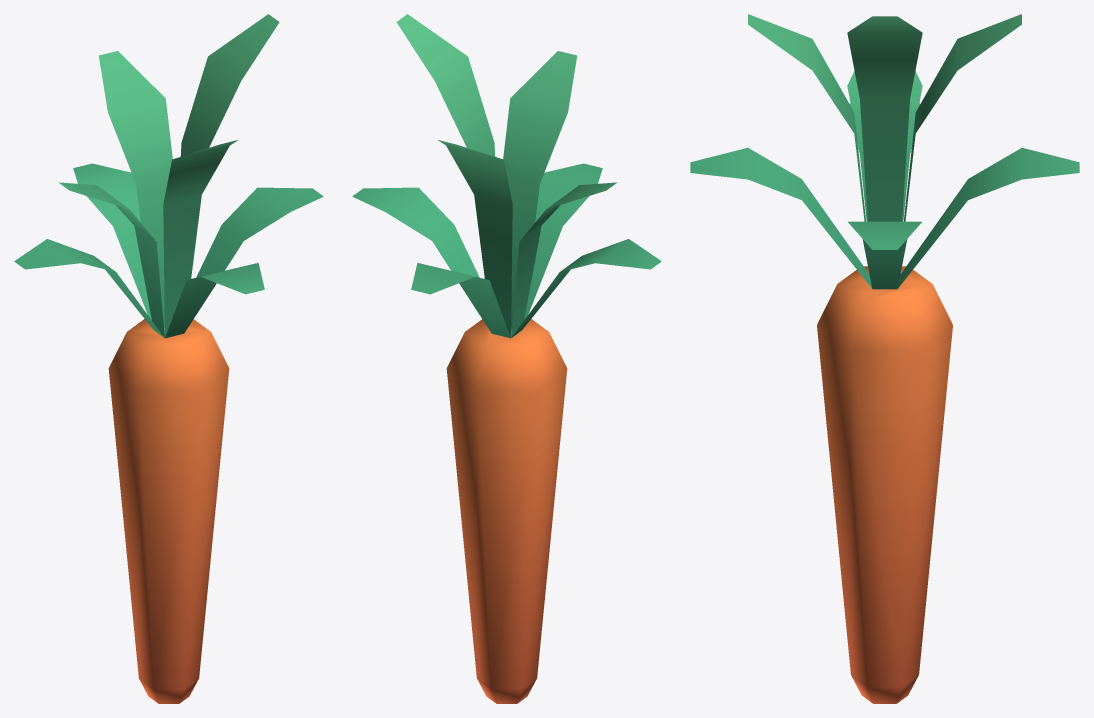
File: carrot.obj
3 views of the same model, side by side, from view 1: azimuth 30°, elevation 25°; view 2: azimuth 150°, elevation 25°; view 3: azimuth 270°, elevation 25° (orthographic). The views are drawn at different scales.
Parts seen in each view (by area): view 1: carrot; view 2: carrot; view 3: carrot.
Boxes of the visible parts, left/top/right/bottom form: carrot: left=14, top=14, right=323, bottom=703; carrot: left=352, top=14, right=661, bottom=703; carrot: left=690, top=14, right=1079, bottom=703.
Size of the model in its own units: 0.3431 by 0.7163 by 0.3431.
Materials: 1 (1 with a texture image).
